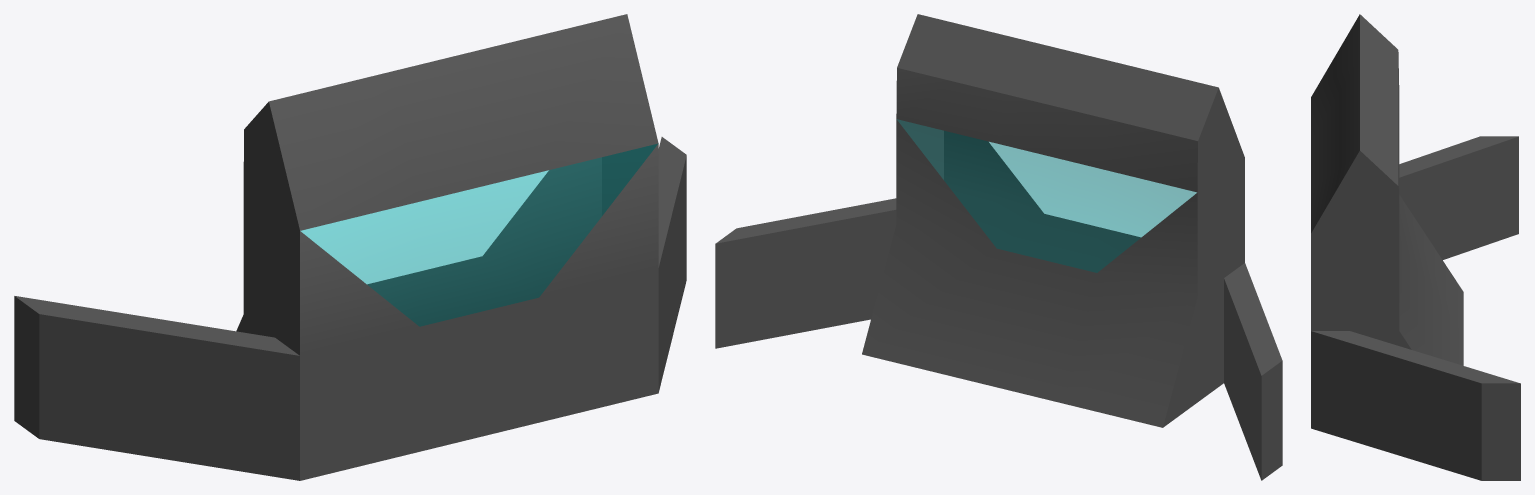
The model's file is Cover.fbx.
3 views of the same model, side by side, from view 1: azimuth 30°, elevation 25°; view 2: azimuth 150°, elevation 25°; view 3: azimuth 270°, elevation 25° (orthographic). The views are drawn at different scales.
Parts seen in each view (by area): view 1: pCube1; view 2: pCube1; view 3: pCube1.
Part boxes in pixels (x1,y1,x2,y2): pCube1: [14, 14, 686, 480]; pCube1: [715, 14, 1282, 480]; pCube1: [1311, 14, 1520, 480].
Bounding box in the file's own units: 25.3 × 13.29 × 9.08.
